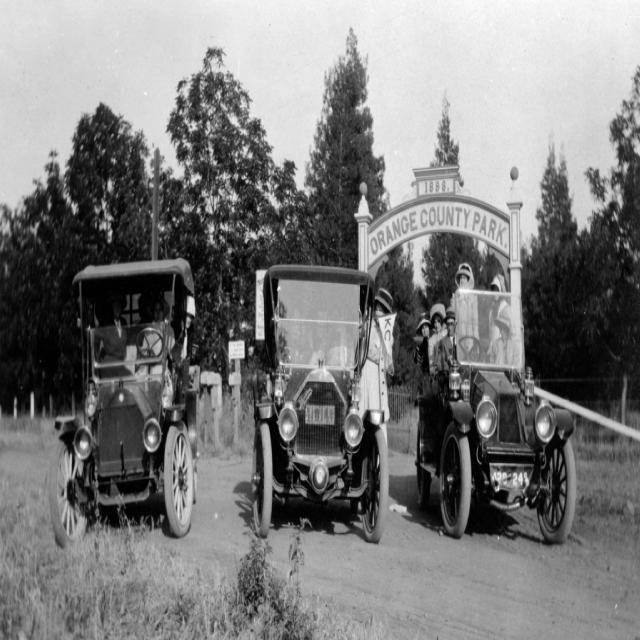car: (412, 281, 578, 548), (43, 259, 201, 536), (250, 259, 391, 547)
